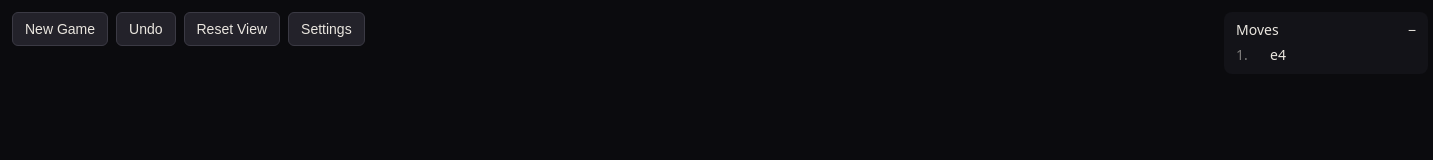
Scenario: move list stays collapsed while new moves are made
Click the button "Moves −" at (1326, 32), box top-left (1236, 20), bottom-right (1416, 43)
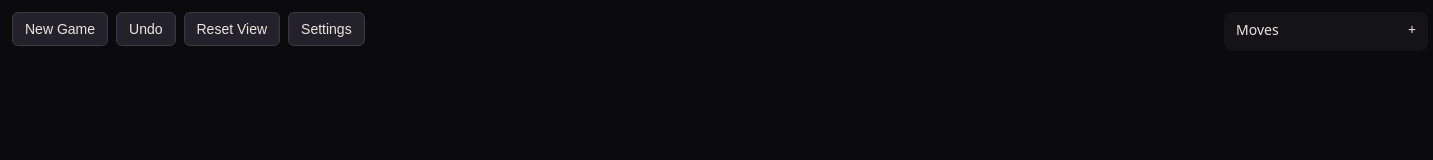
Expected: the text "e5" is not shown
Now the text "e4" is gone
Click the button "Moves +" at (1326, 32), box top-left (1236, 20), bottom-right (1416, 43)
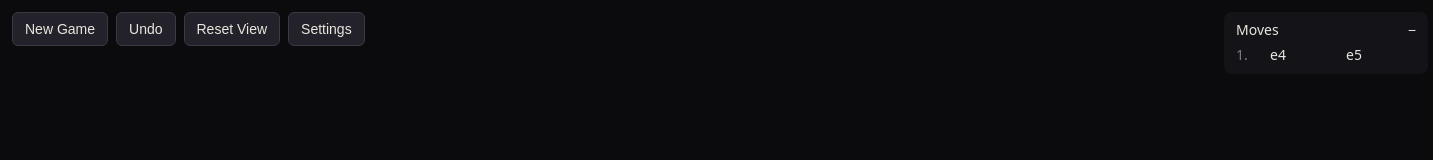
Now the text "e5" is shown, box top-left (1346, 45), bottom-right (1362, 64)
